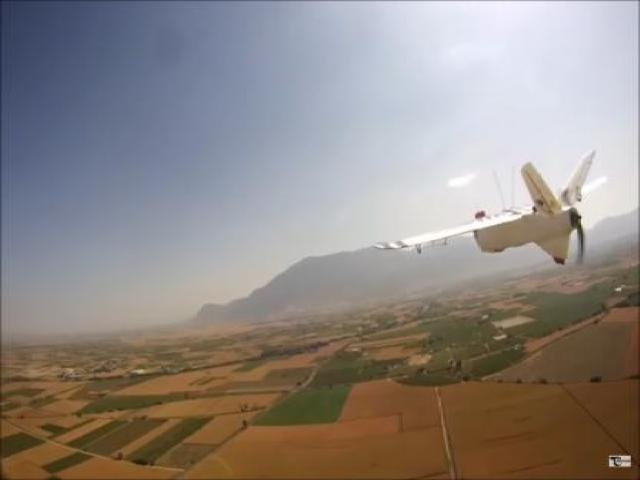uav: (368, 148, 610, 264)
